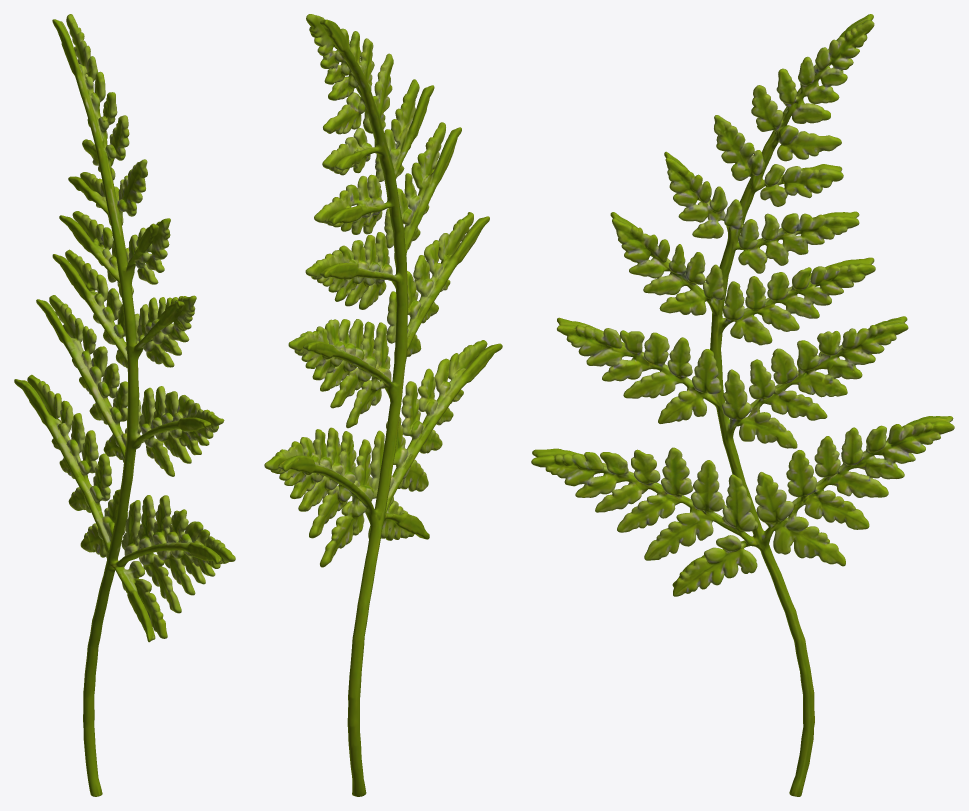
Rendered from Fern 2.glb.
3 renders of one model, left to right at view 1: azimuth 30°, elevation 25°; view 2: azimuth 150°, elevation 25°; view 3: azimuth 270°, elevation 25°, orthographic. The views are drawn at different scales.
Visible parts, largest first — view 1: tripo_node_df6074be-e1e8-4b86-8a37-7cf92cd84658; view 2: tripo_node_df6074be-e1e8-4b86-8a37-7cf92cd84658; view 3: tripo_node_df6074be-e1e8-4b86-8a37-7cf92cd84658.
Part boxes in pixels (x1,y1,x2,y2): tripo_node_df6074be-e1e8-4b86-8a37-7cf92cd84658: [14, 14, 235, 796]; tripo_node_df6074be-e1e8-4b86-8a37-7cf92cd84658: [264, 14, 502, 796]; tripo_node_df6074be-e1e8-4b86-8a37-7cf92cd84658: [531, 14, 954, 796].
Bounding box in the file's own units: 0.03 × 0.9999 × 0.4926.
1 material, 1 textured.
